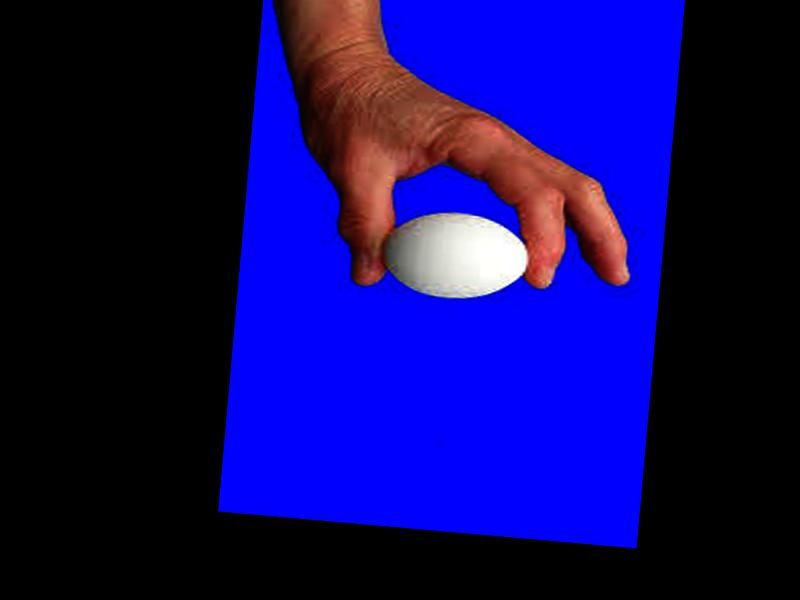Eggs: (380, 206, 534, 304)
